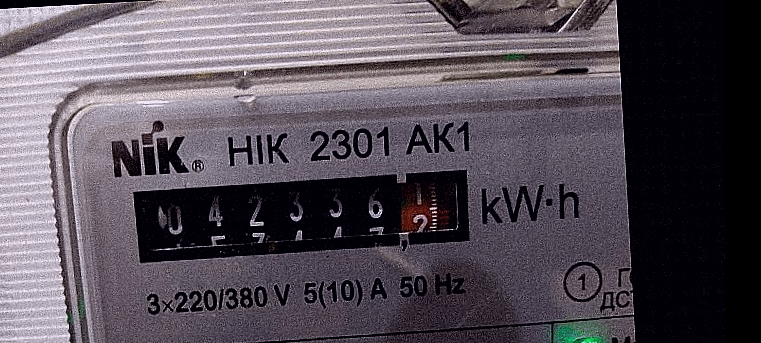0: (163, 200, 185, 236)
1: (410, 177, 425, 207)
2: (244, 191, 266, 228), (409, 211, 429, 233)
3: (285, 185, 306, 224), (323, 183, 344, 220)
4: (204, 191, 225, 229)
6: (362, 184, 386, 220)
screen: (124, 158, 481, 271)
